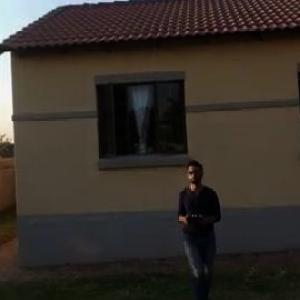follow: (166, 159, 226, 299)
